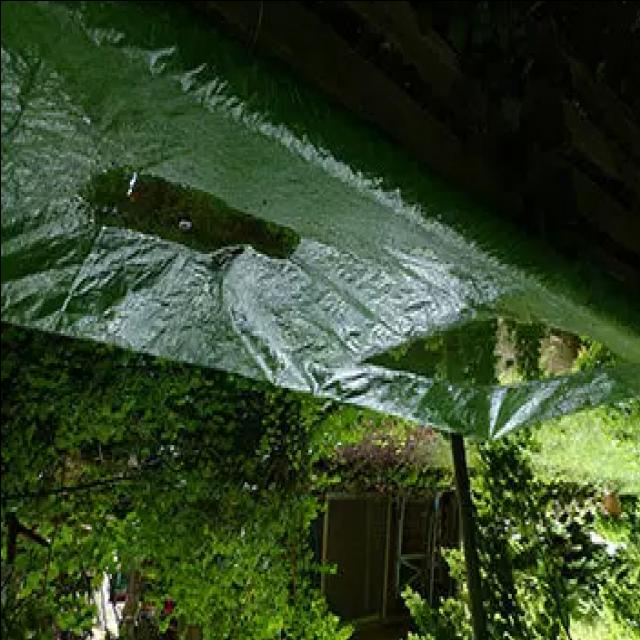Breeding Place: (51, 130, 316, 276), (374, 258, 606, 409)
